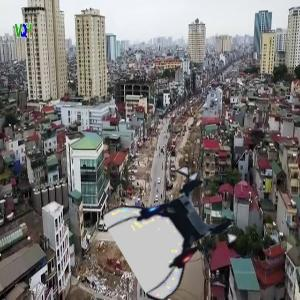drone: (118, 172, 234, 288)
